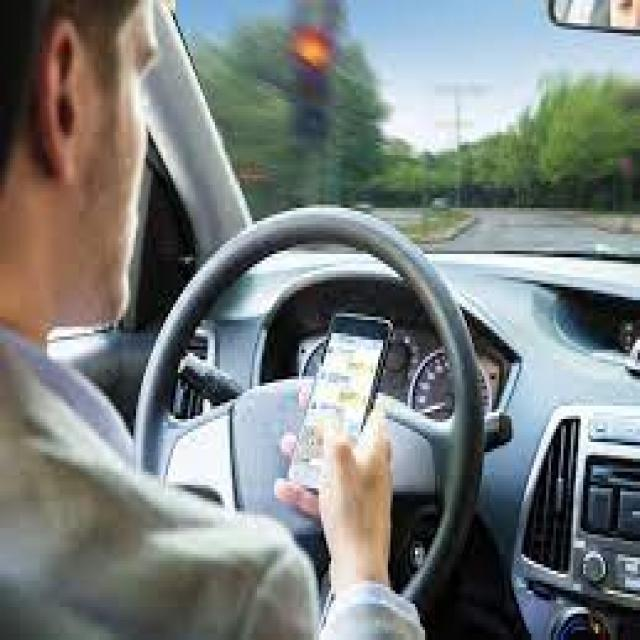Cellphone_texting: (274, 304, 396, 544)
